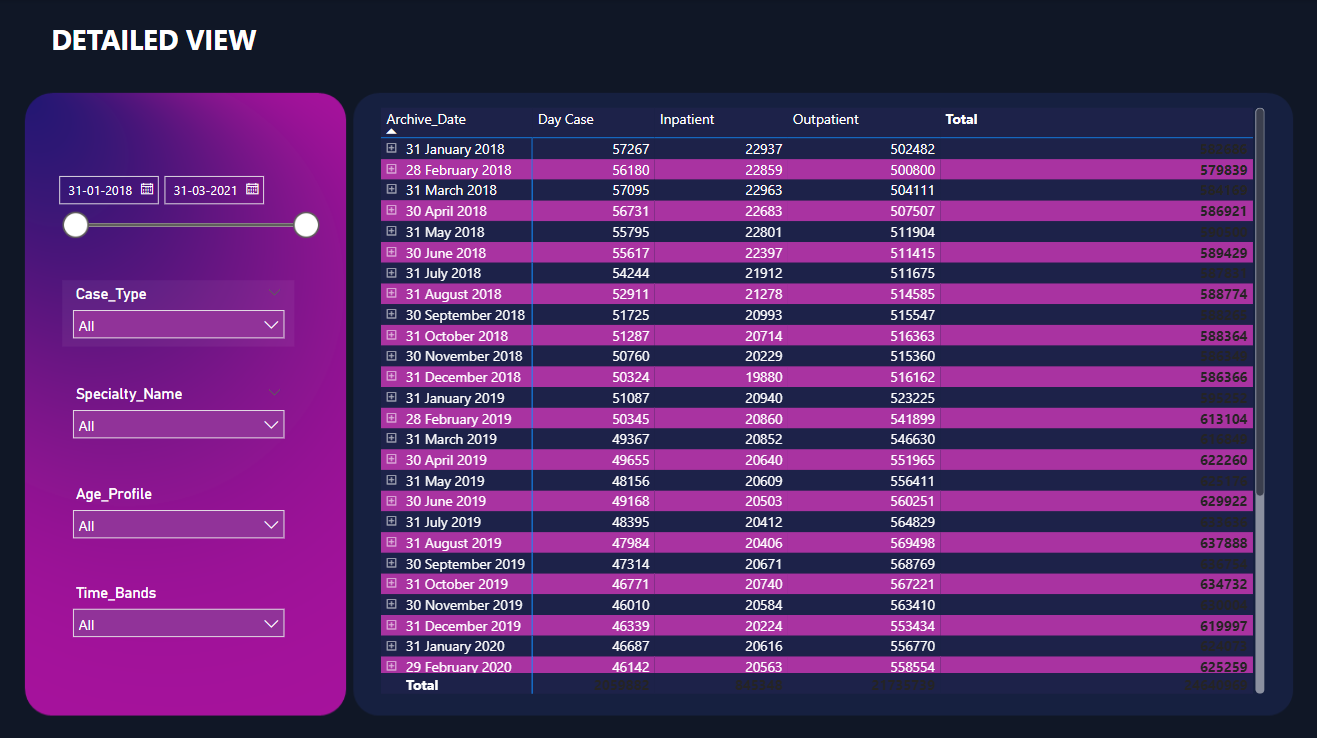

This screenshot's page, from the dashboard's own definition file:
{"tool":"powerbi","page":{"name":"DETAIL","canvas":[1280,720],"ordinal":1},"visuals":[{"type":"slicer","fields":{"Values":["All_Data.Case_Type"]},"box":[64,272,224,64],"z":0},{"type":"slicer","fields":{"Values":["All_Data.Archive_Date"]},"box":[48,160,272,80],"z":1000},{"type":"slicer","fields":{"Values":["All_Data.Specialty_Name"]},"box":[64,368,224,64],"z":2000},{"type":"textbox","box":[48,16,256,48],"z":3000},{"type":"slicer","fields":{"Values":["All_Data.Age_Profile"]},"box":[64,464,224,64],"z":4000},{"type":"slicer","fields":{"Values":["All_Data.Time_Bands"]},"box":[64,560,224,64],"z":5000},{"type":"pivotTable","fields":{"Rows":["All_Data.Archive_Date","All_Data.Specialty_Name","All_Data.Age_Profile","All_Data.Time_Bands"],"Columns":["All_Data.Case_Type"],"Values":["Sum(All_Data.Total)"]},"box":[367.1,100,862.9,575.7],"z":6000}]}

Visuals, with their boxes in screenshot pixels (x1, y1, x2, y2), scaled from the page's 1280x720 canvas onto the 1317x738 screenshot:
slicer - All_Data.Case_Type: 66:279:296:344
slicer - All_Data.Archive_Date: 49:164:329:246
slicer - All_Data.Specialty_Name: 66:377:296:443
textbox: 49:16:313:66
slicer - All_Data.Age_Profile: 66:476:296:541
slicer - All_Data.Time_Bands: 66:574:296:640
pivotTable - All_Data.Archive_Date x All_Data.Specialty_Name: 378:102:1266:693
